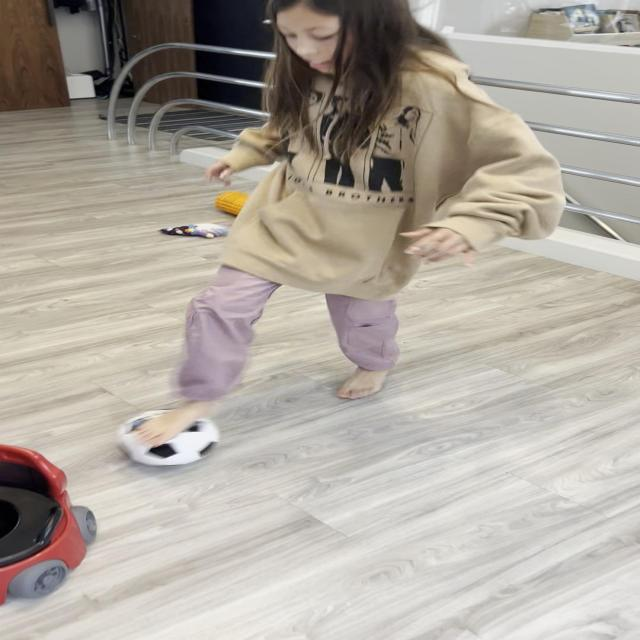Soccer Ball: (122, 409, 223, 466)
